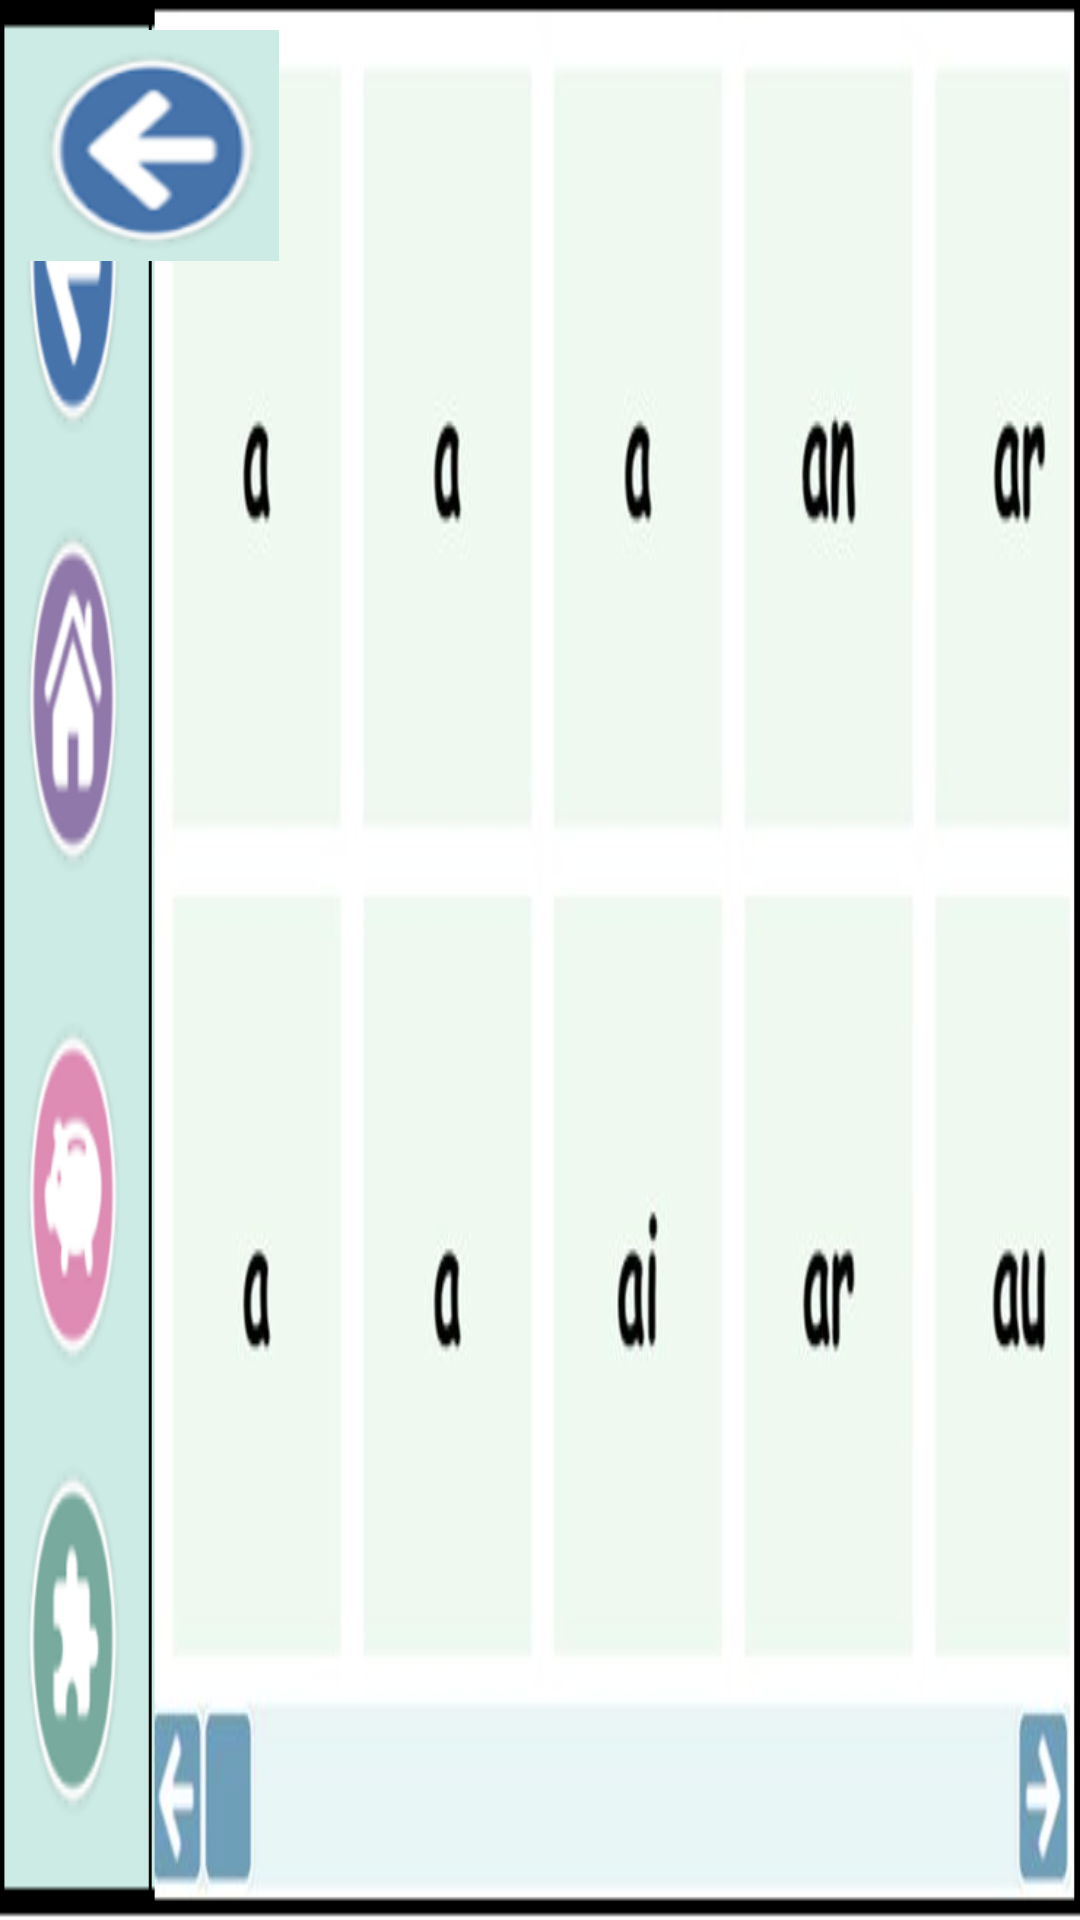

Where to tap for icons on this 1080 x 1920 app screen, as point (x, y):
back: point (151, 150)
